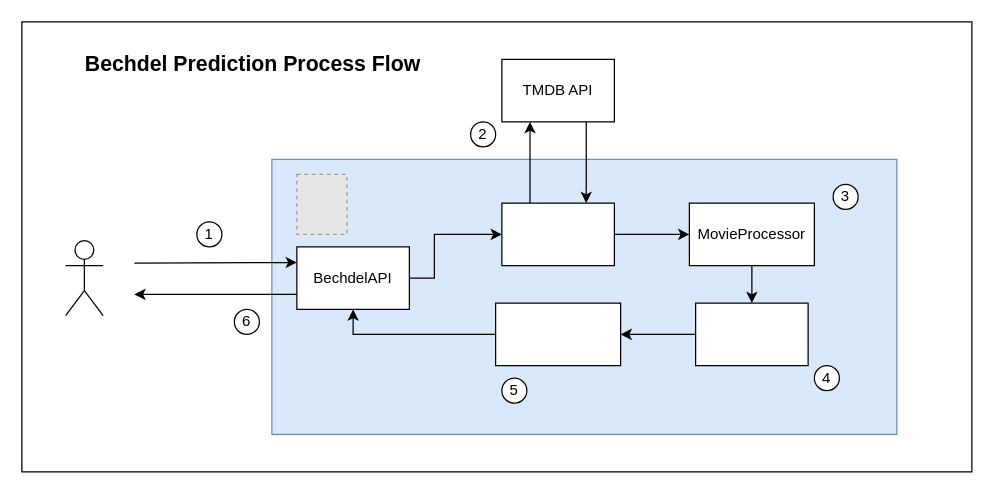
This 994x494 diagram has some shape labels left out. Grey dashed boxes stand in for pictures. The centre of each missing label's shape, as x and y in pixels:
"Actor" goes at pixel 83 277.
"Model" goes at pixel 751 334.
"MovieClient" goes at pixel 557 234.
"Prediction" goes at pixel 557 334.
